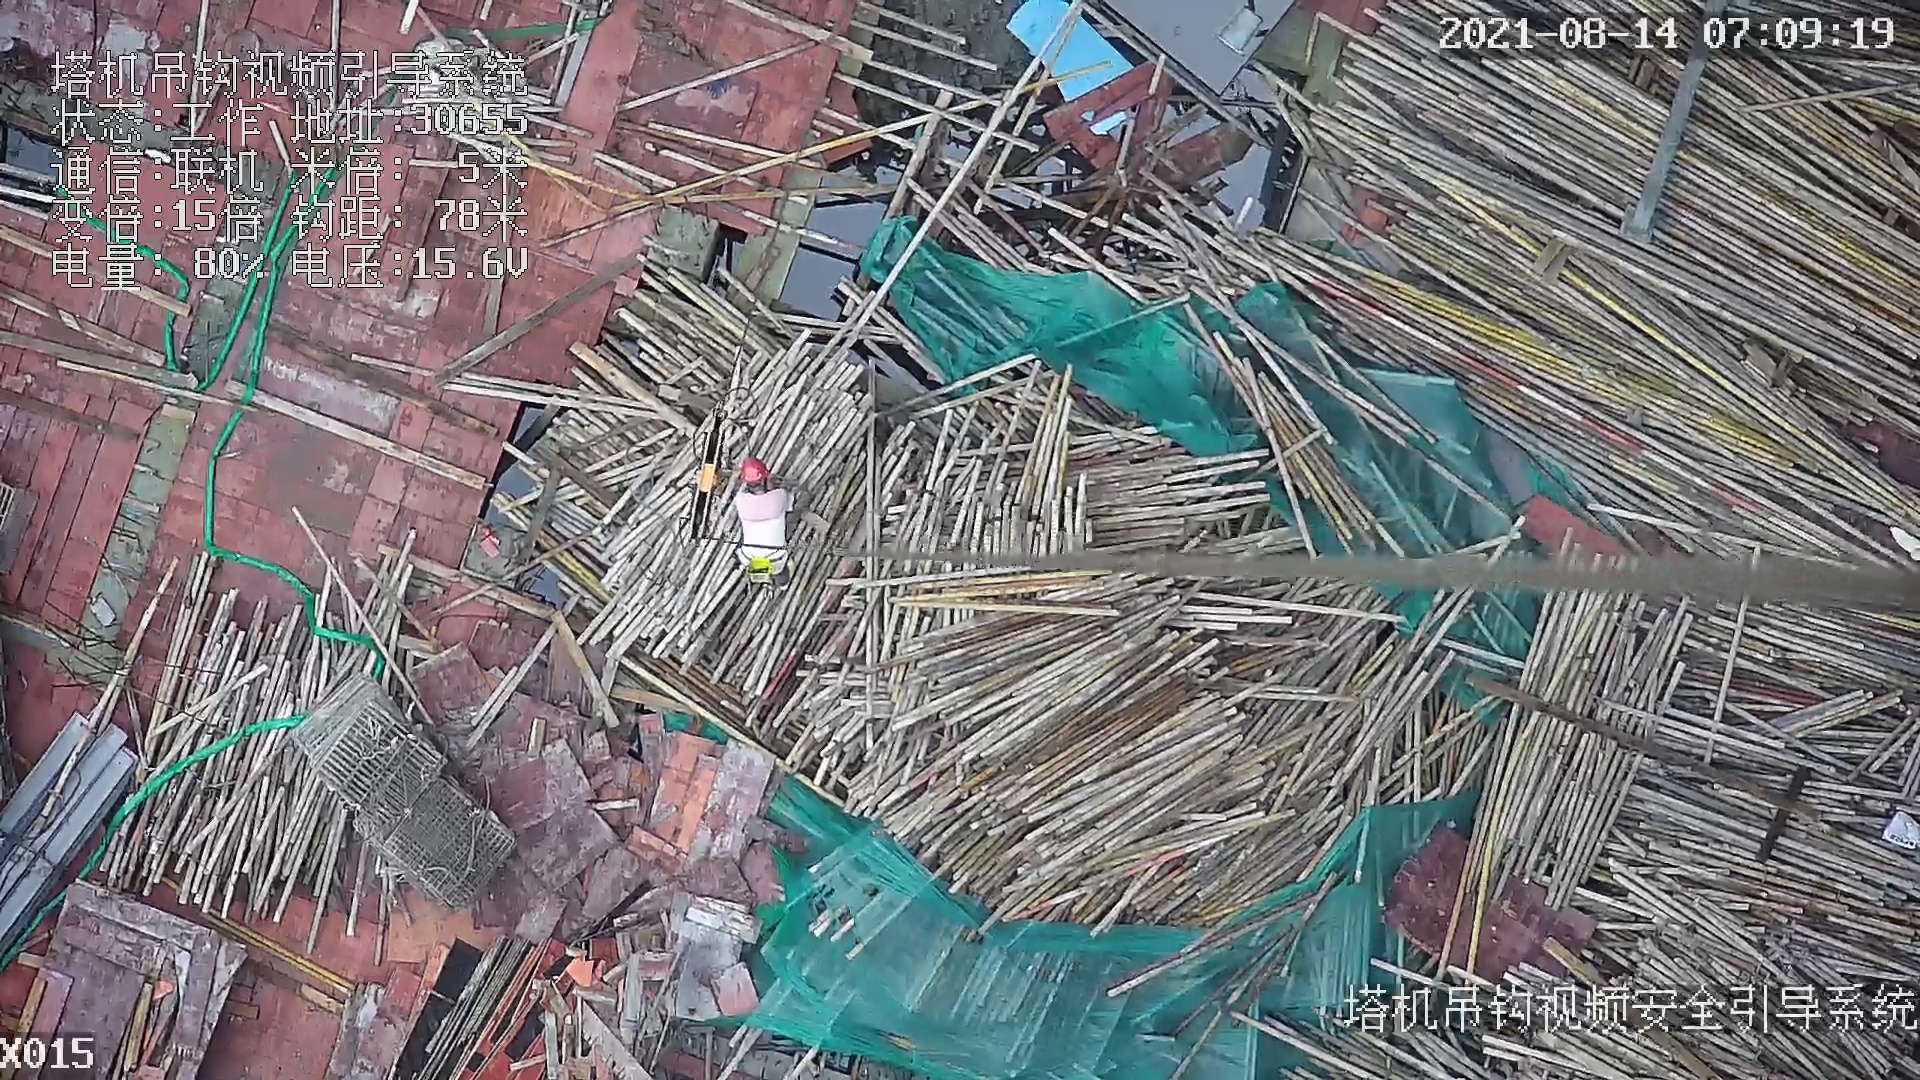helmet: (740, 457, 770, 486)
hook: (691, 403, 735, 546)
person: (724, 462, 795, 582)
